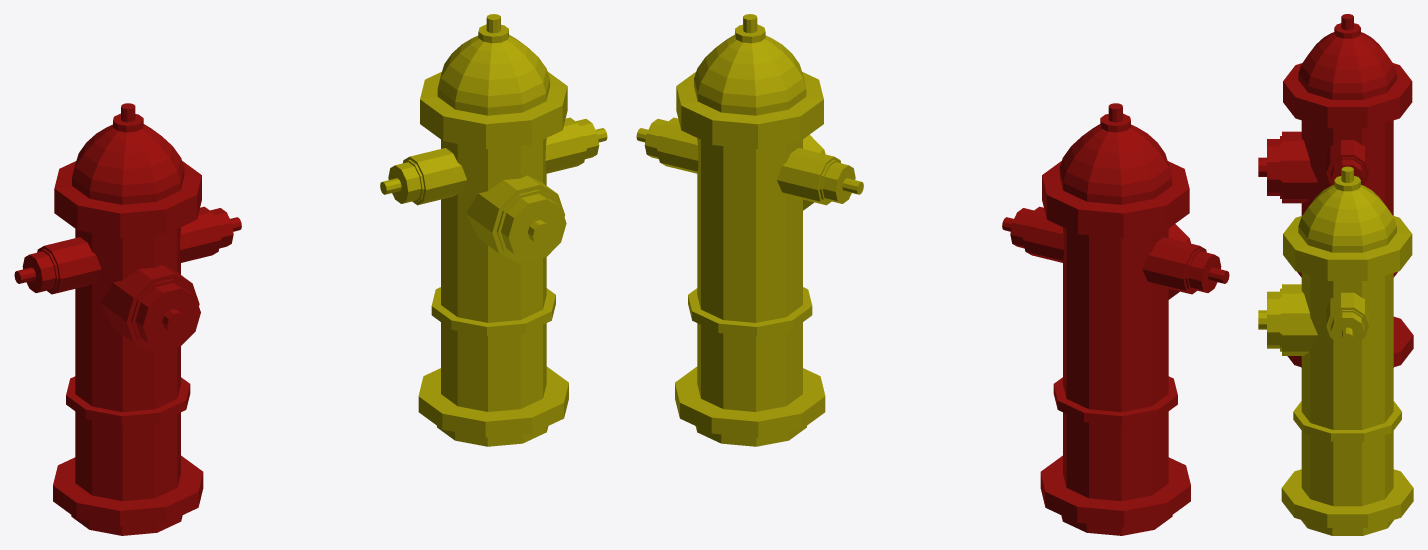
Rendered from Fire Hydrants.fbx.
3 views of the same model, side by side, from view 1: azimuth 30°, elevation 25°; view 2: azimuth 150°, elevation 25°; view 3: azimuth 270°, elevation 25° (orthographic). The views are drawn at different scales.
Visible parts, largest first — view 1: Circle, Circle.001; view 2: Circle.001, Circle; view 3: Circle.001, Circle.
Part boxes in pixels (x1,y1,x2,y2): Circle: (14, 103, 241, 535); Circle.001: (380, 14, 607, 446); Circle.001: (636, 14, 863, 446); Circle: (1002, 103, 1229, 535); Circle.001: (1258, 166, 1413, 535); Circle: (1258, 14, 1413, 367).
Size of the model in its own units: 1167 by 771 by 312.
